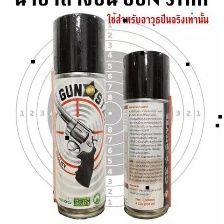aerosol_cans: (48, 11, 108, 221), (118, 49, 173, 221)
